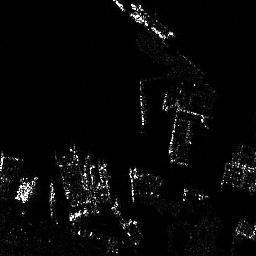ship: (137, 79, 147, 127)
